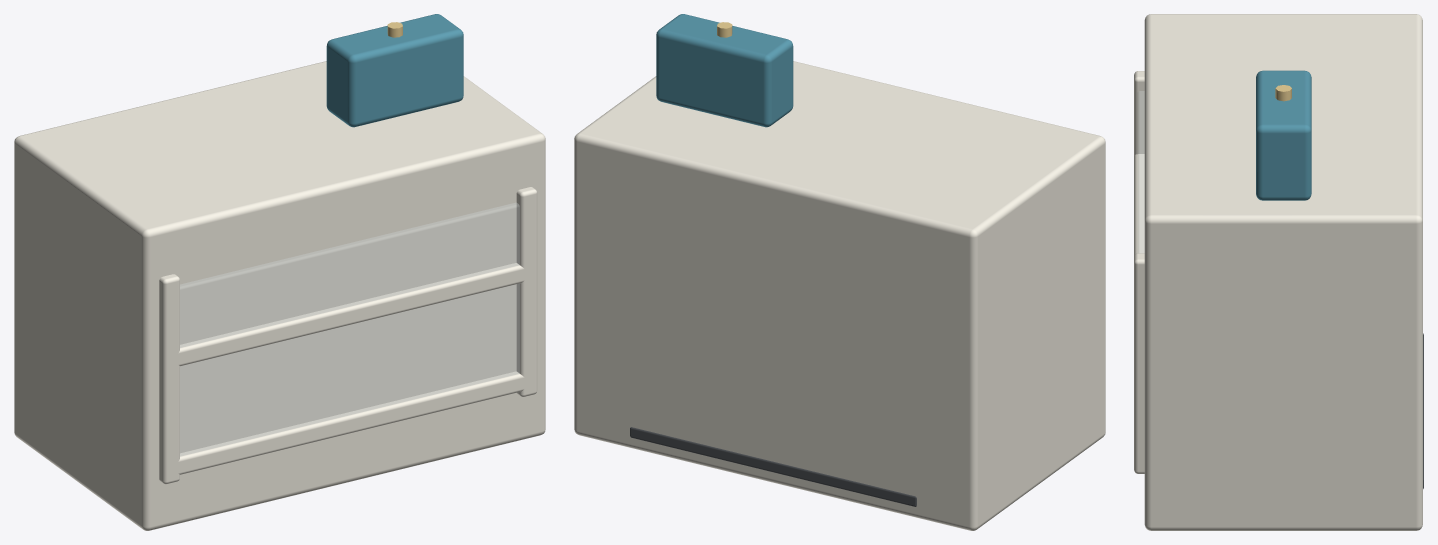
The model's file is geotechnical-soil-testing-laboratory-hydrometer-cylind-65765caf__39071.glb.
3 renders of one model, left to right at view 1: azimuth 30°, elevation 25°; view 2: azimuth 150°, elevation 25°; view 3: azimuth 270°, elevation 25°, orthographic. The views are drawn at different scales.
Parts seen in each view (by area): view 1: hydrometer-cylinder-bath; view 2: hydrometer-cylinder-bath; view 3: hydrometer-cylinder-bath.
Boxes of the visible parts, bbox=[...] form: hydrometer-cylinder-bath: bbox=[14, 14, 545, 530]; hydrometer-cylinder-bath: bbox=[574, 14, 1105, 530]; hydrometer-cylinder-bath: bbox=[1134, 14, 1423, 530].
Size of the model in its own units: 0.7 by 0.635 by 0.4162.
